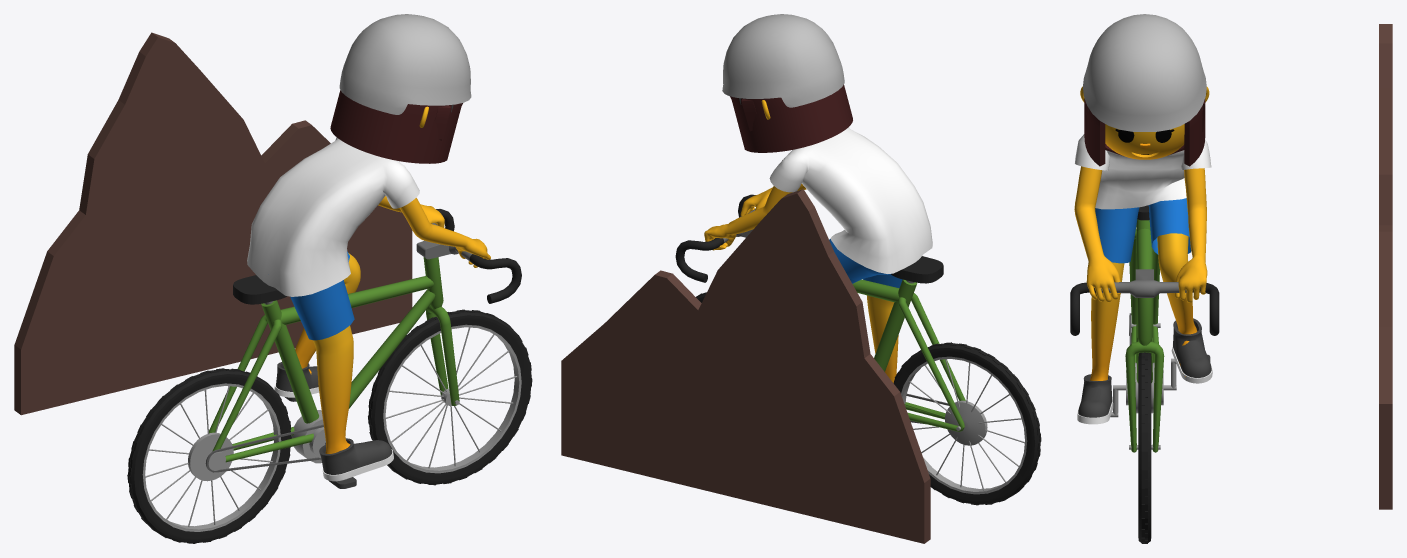
Rendered from woman_mountain_biking.fbx.
3 views of the same model, side by side, from view 1: azimuth 30°, elevation 25°; view 2: azimuth 150°, elevation 25°; view 3: azimuth 270°, elevation 25° (orthographic). The views are drawn at different scales.
Visible parts, largest first — view 1: Plane.101, Circle.203, Circle.205, Cube.309, Roundcube.479, Sphere.452, Sphere.451; view 2: Plane.101, Circle.205, Circle.203, Cube.309, Roundcube.479; view 3: Circle.205, Cube.309, Circle.203, Plane.101, Roundcube.479, Sphere.451, Roundcube.478, Sphere.452.
Boxes of the visible parts, x1=… form: Plane.101: x1=14, y1=32, x2=412, y2=415; Circle.203: x1=127, y1=209, x2=532, y2=543; Circle.205: x1=247, y1=137, x2=490, y2=453; Cube.309: x1=339, y1=14, x2=471, y2=114; Roundcube.479: x1=330, y1=90, x2=462, y2=163; Sphere.452: x1=319, y1=438, x2=393, y2=481; Sphere.451: x1=274, y1=362, x2=319, y2=397; Plane.101: x1=561, y1=189, x2=930, y2=543; Circle.205: x1=704, y1=127, x2=932, y2=382; Circle.203: x1=675, y1=194, x2=1041, y2=505; Cube.309: x1=722, y1=14, x2=844, y2=107; Roundcube.479: x1=730, y1=84, x2=852, y2=152; Circle.205: x1=1074, y1=134, x2=1211, y2=380; Cube.309: x1=1083, y1=14, x2=1206, y2=131; Circle.203: x1=1070, y1=205, x2=1219, y2=543; Plane.101: x1=1379, y1=24, x2=1392, y2=509; Roundcube.479: x1=1084, y1=106, x2=1205, y2=166; Sphere.451: x1=1171, y1=318, x2=1212, y2=383; Roundcube.478: x1=1105, y1=124, x2=1184, y2=159; Sphere.452: x1=1077, y1=374, x2=1113, y2=424.
Size of the model in its own units: 206 by 231 by 138.
2 materials, 2 textured.
